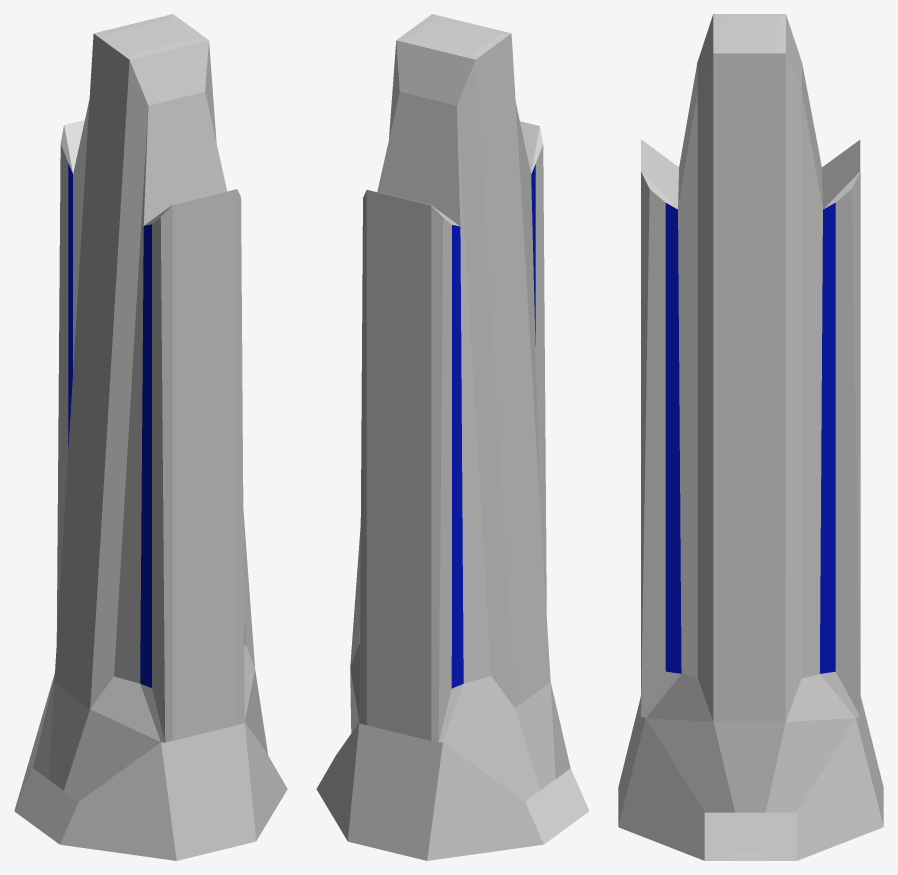
The model's file is House1(Updated).fbx.
3 renders of one model, left to right at view 1: azimuth 30°, elevation 25°; view 2: azimuth 150°, elevation 25°; view 3: azimuth 270°, elevation 25°, orthographic.
Parts seen in each view (by area): view 1: Cube; view 2: Cube; view 3: Cube.
Part boxes in pixels (box(x1,y1,x2,y2)): Cube: box(14, 14, 287, 860); Cube: box(316, 14, 589, 860); Cube: box(618, 14, 883, 860).
Size of the model in its own units: 11.95 by 38.44 by 11.95.
